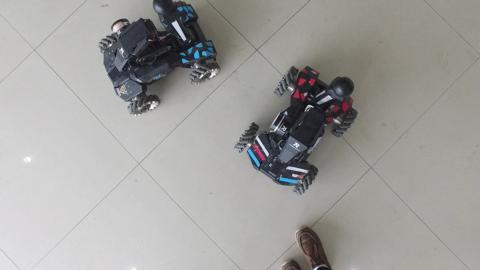chariot: (233, 63, 367, 194), (89, 1, 227, 113)
